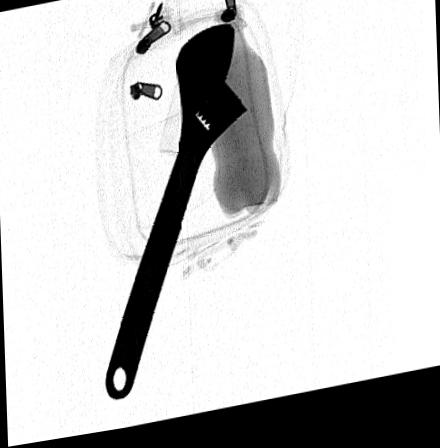Wrench: (100, 27, 250, 405)
